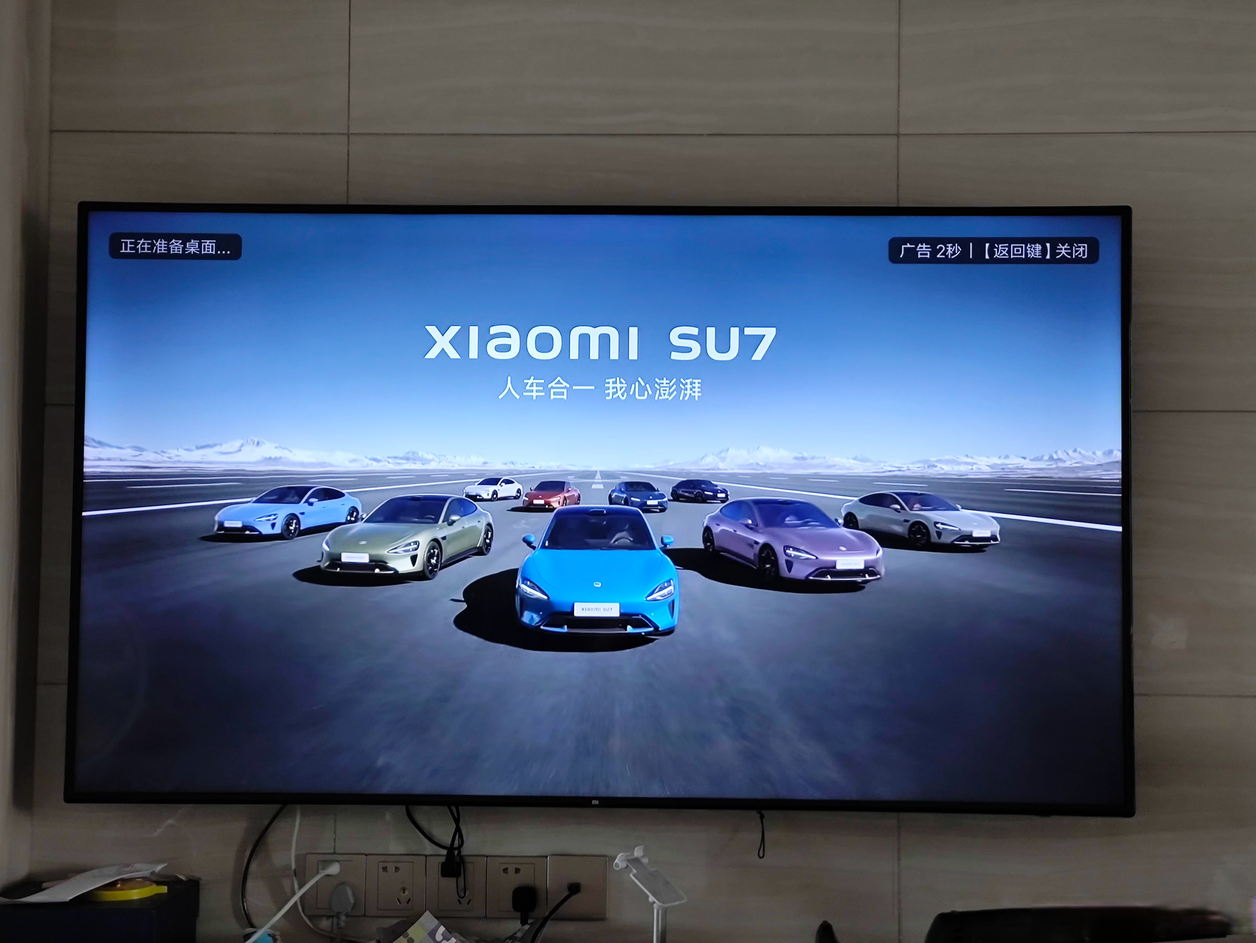su7: (511, 499, 692, 628), (320, 491, 499, 585), (701, 497, 881, 584), (848, 479, 1007, 549), (207, 477, 360, 539), (604, 475, 666, 511), (520, 474, 588, 505), (665, 478, 732, 503), (464, 474, 520, 498)
